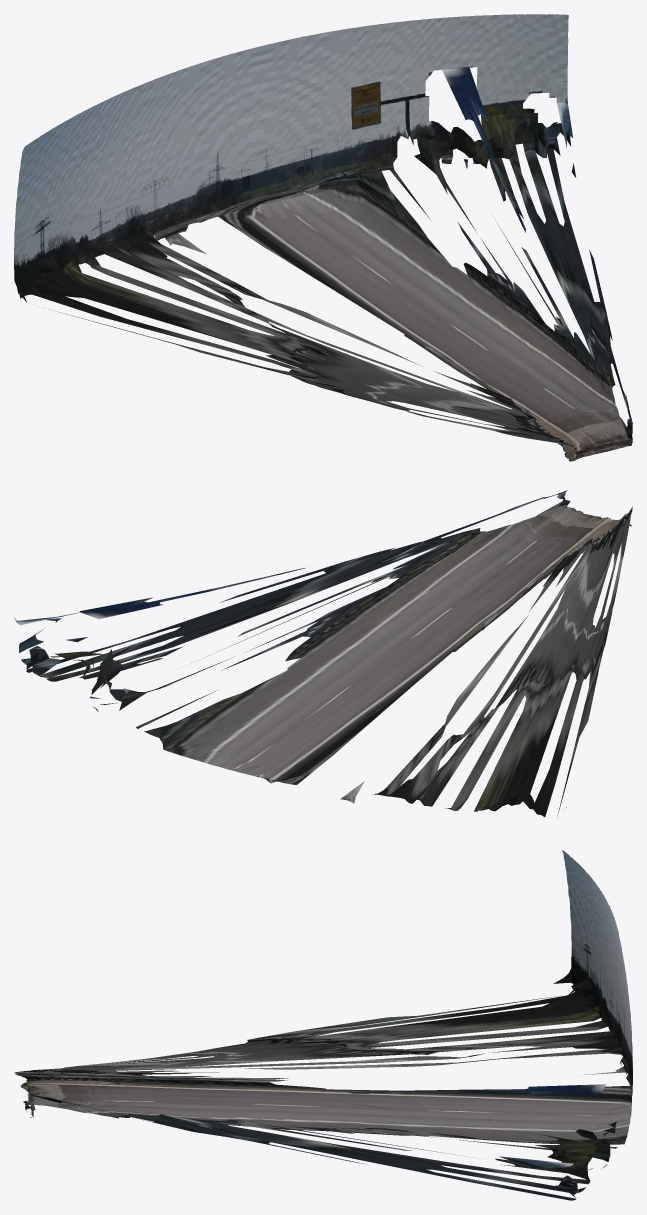
The picture shows the model from 3 angles, top to bottom: view 1: azimuth 30°, elevation 25°; view 2: azimuth 150°, elevation 25°; view 3: azimuth 270°, elevation 25°; orthographic projection. The views are drawn at different scales.
Parts seen in each view (by area): view 1: defaultobject; view 2: defaultobject; view 3: defaultobject.
Boxes of the visible parts, x1,y1,x2,y2 form: defaultobject: (14,14,632,461); defaultobject: (14,490,632,817); defaultobject: (14,850,632,1200).
Size of the model in its own units: 41.11 by 12.42 by 45.1.
1 material, 1 textured.
